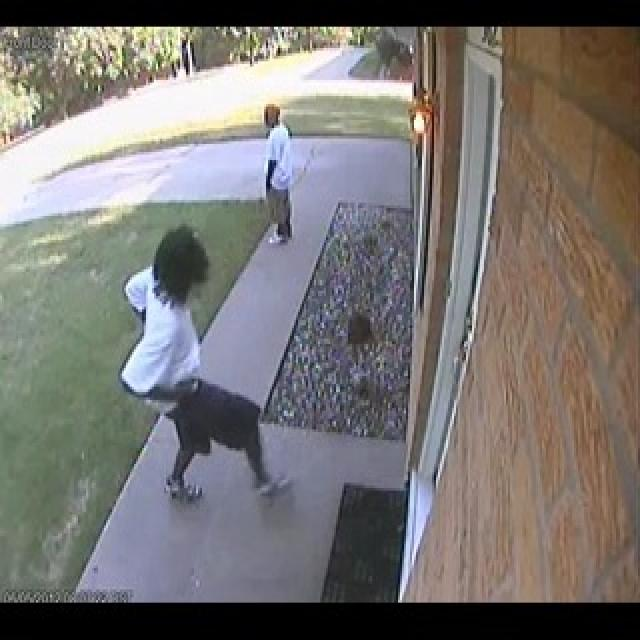thief: (132, 212, 240, 289), (252, 95, 294, 156)
